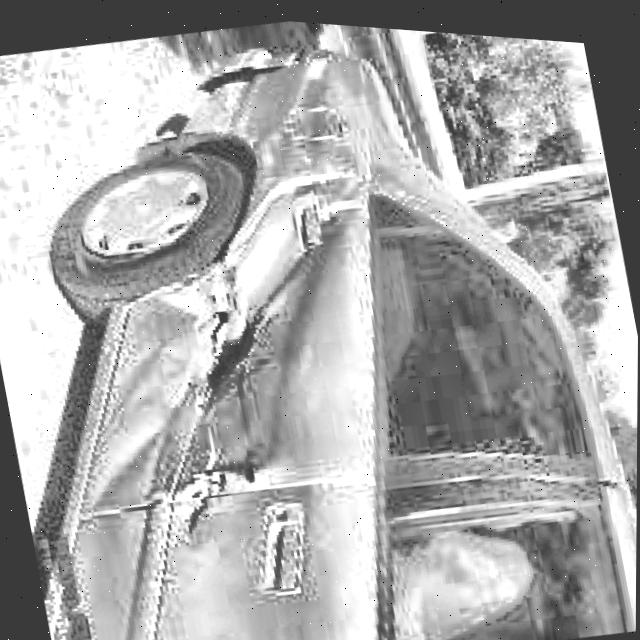door_dent: (145, 263, 302, 533)
